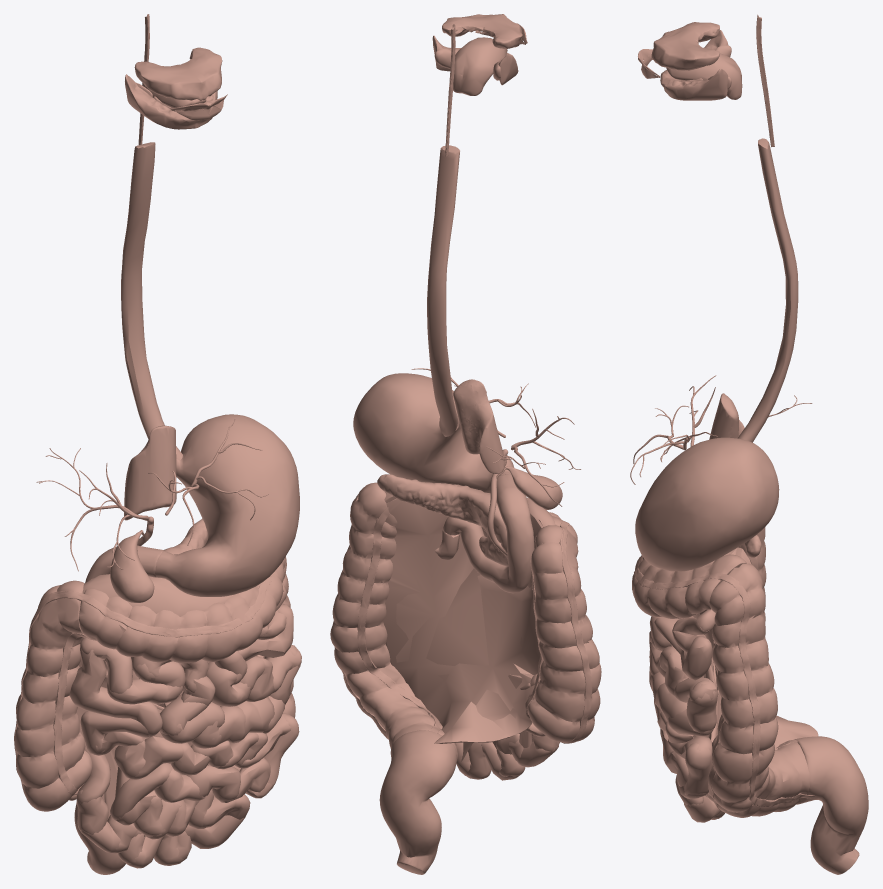
File: digestive.glb
3 renders of one model, left to right at view 1: azimuth 30°, elevation 25°; view 2: azimuth 150°, elevation 25°; view 3: azimuth 270°, elevation 25°, orthographic. The views are drawn at different scales.
Visible parts, largest first — view 1: FMA7148, FMA16983, FMA14545, FMA14546, FMA14964, FMA14965, FMA7131, FMA14966, FMA16981, FMA13365, FMA59763, FMA16982 (+10 smaller); view 2: FMA14647, FMA14547, FMA14545, FMA7148, FMA14544, FMA7131, FMA7206, FMA14966, FMA13365, FMA7198, FMA15042, FMA63120 (+7 smaller); view 3: FMA14547, FMA7148, FMA14544, FMA7131, FMA14546, FMA16982, FMA16981, FMA15043, FMA59763, FMA14964, FMA59764, FMA54640 (+6 smaller).
Boxes of the visible parts, x1,y1,x2,y2 form: FMA7148: [155, 414, 299, 596]; FMA16983: [69, 638, 245, 748]; FMA14545: [14, 580, 92, 811]; FMA14546: [79, 558, 285, 663]; FMA14964: [80, 711, 299, 787]; FMA14965: [110, 757, 273, 839]; FMA7131: [121, 142, 182, 459]; FMA14966: [76, 789, 250, 868]; FMA16981: [206, 584, 293, 706]; FMA13365: [124, 425, 176, 520]; FMA59763: [134, 47, 222, 100]; FMA16982: [236, 645, 301, 740]; FMA14647: [383, 492, 556, 743]; FMA14547: [330, 483, 457, 762]; FMA14545: [527, 525, 601, 743]; FMA7148: [353, 373, 514, 493]; FMA14544: [379, 730, 456, 874]; FMA7131: [427, 145, 459, 436]; FMA7206: [443, 474, 534, 593]; FMA14966: [456, 734, 559, 780]; FMA13365: [453, 379, 505, 473]; FMA7198: [377, 474, 507, 566]; FMA15042: [357, 507, 543, 733]; FMA63120: [378, 475, 508, 565]; FMA14547: [706, 563, 809, 817]; FMA7148: [635, 437, 779, 571]; FMA14544: [794, 736, 868, 874]; FMA7131: [737, 138, 798, 442]; FMA14546: [632, 554, 746, 618]; FMA16982: [655, 649, 718, 736]; FMA16981: [649, 609, 715, 680]; FMA15043: [634, 555, 814, 807]; FMA59763: [651, 22, 719, 70]; FMA14964: [654, 699, 712, 798]; FMA59764: [660, 30, 728, 100]; FMA54640: [666, 53, 742, 99].
Size of the model in its own units: 0.4989 by 1.52 by 0.3819.
